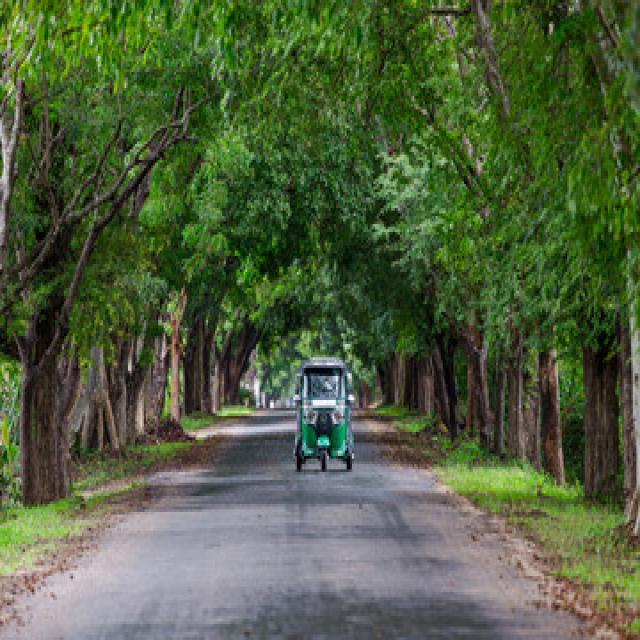three wheeler: (293, 357, 352, 469)
